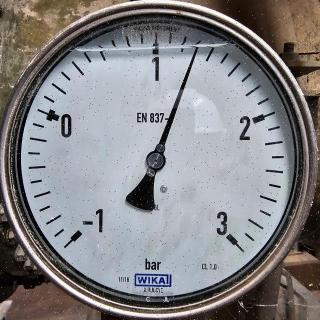gauge: (0, 0, 320, 320), (57, 207, 105, 257), (211, 219, 245, 251), (144, 150, 167, 172), (190, 44, 202, 56)
